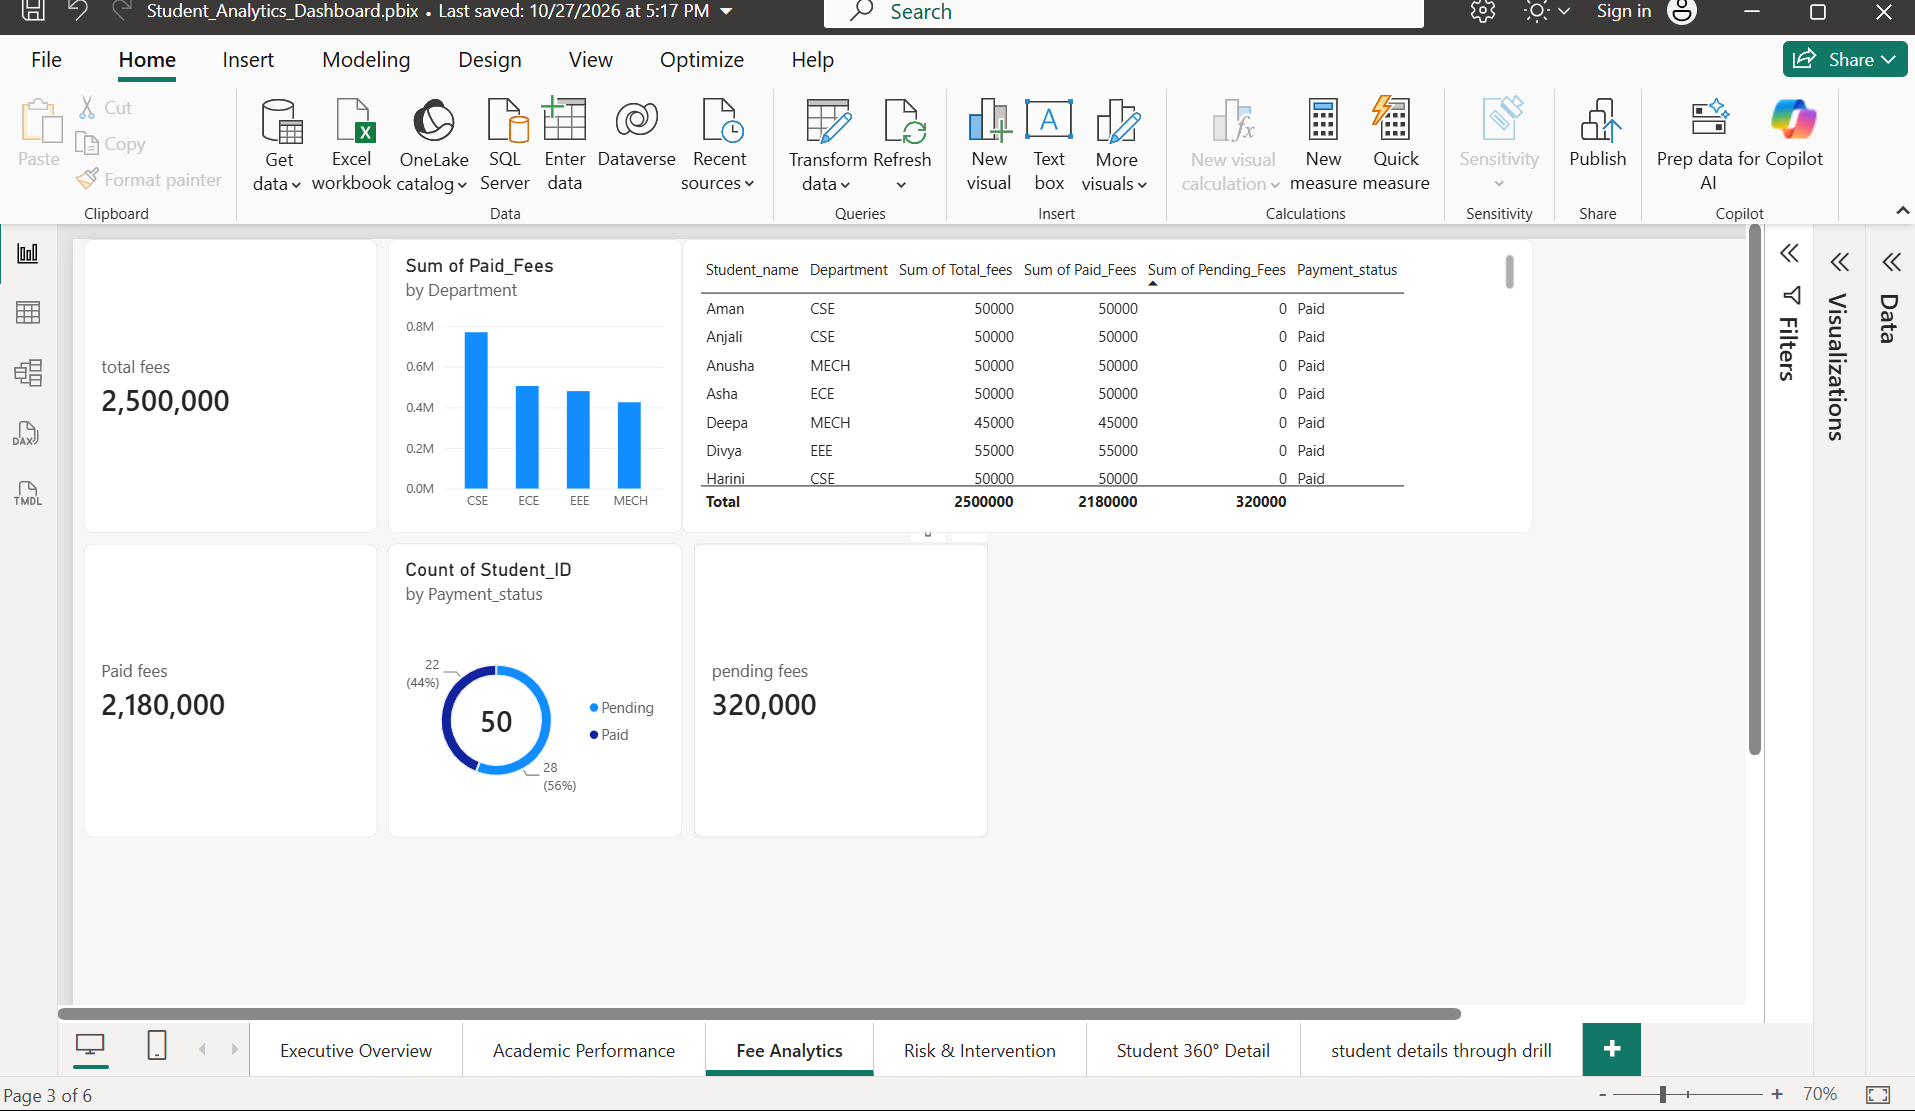

Layout of this report page (visuals, bound fields, positions):
{"tool":"powerbi","page":{"name":"Fee Analytics","canvas":[1920,1080],"ordinal":2},"visuals":[{"type":"cardVisual","fields":{"Data":["Student_Fees.total fees"]},"box":[10,0,280,280],"z":0},{"type":"cardVisual","fields":{"Data":["Student_Fees.Paid fees"]},"box":[10,290,280,280],"z":1000},{"type":"cardVisual","fields":{"Data":["Student_Fees.pending fees"]},"box":[10,580,280,280],"z":2000},{"type":"cardVisual","fields":{"Data":["Student_Fees.fee collection %"]},"box":[10,870,280,210],"z":3000},{"type":"clusteredColumnChart","fields":{"Category":["Student_performance.Department"],"Y":["Sum(Student_Fees.Paid_Fees)"]},"box":[300,0,280,280],"z":4000},{"type":"donutChart","fields":{"Category":["Student_Fees.Payment_status"],"Y":["CountNonNull(Student_Fees.Student_ID)"]},"box":[300,290,280,280],"z":5000},{"type":"tableEx","fields":{"Values":["Student_performance.Student_name","Student_performance.Department","Sum(Student_Fees.Total_fees)","Sum(Student_Fees.Paid_Fees)","Sum(Student_Fees.Pending_Fees)","Student_Fees.Payment_status"]},"box":[300,580,810,280],"z":6000}]}

Visuals, with their boxes on the page's 1920x1080 design canvas (x1, y1, x2, y2). These are canvas units, not pixel positions in the 1915x1111 screenshot, which may show the page scaled, cropped or inside an application window:
cardVisual - Student_Fees.total fees: 10/0/290/280
cardVisual - Student_Fees.Paid fees: 10/290/290/570
cardVisual - Student_Fees.pending fees: 10/580/290/860
cardVisual - Student_Fees.fee collection %: 10/870/290/1080
clusteredColumnChart - Student_performance.Department x Sum(Student_Fees.Paid_Fees): 300/0/580/280
donutChart - Student_Fees.Payment_status x CountNonNull(Student_Fees.Student_ID): 300/290/580/570
tableEx - Student_performance.Student_name x Student_performance.Department: 300/580/1110/860
